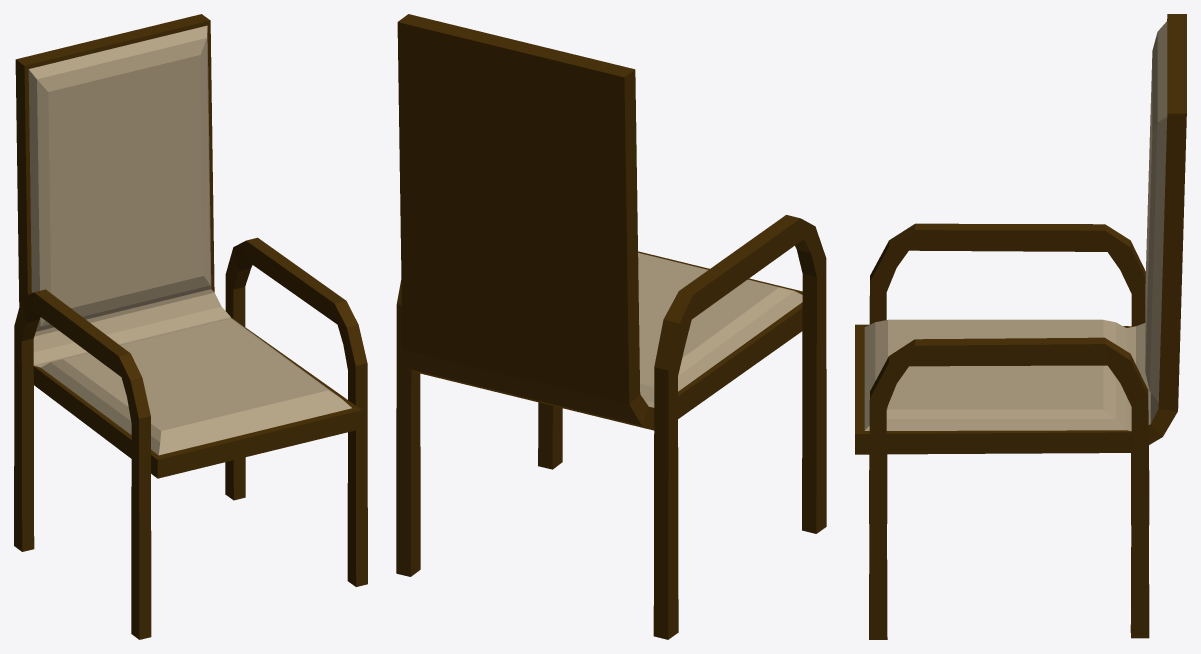
Rendered from H_Chair_Client.fbx.
3 renders of one model, left to right at view 1: azimuth 30°, elevation 25°; view 2: azimuth 150°, elevation 25°; view 3: azimuth 270°, elevation 25°, orthographic. The views are drawn at different scales.
Visible parts, largest first — view 1: H_Chair_Client; view 2: H_Chair_Client; view 3: H_Chair_Client.
Part boxes in pixels (x1,y1,x2,y2): H_Chair_Client: [14, 14, 367, 639]; H_Chair_Client: [396, 14, 826, 639]; H_Chair_Client: [855, 14, 1186, 639].
Bounding box in the file's own units: 340 × 390 × 668.
